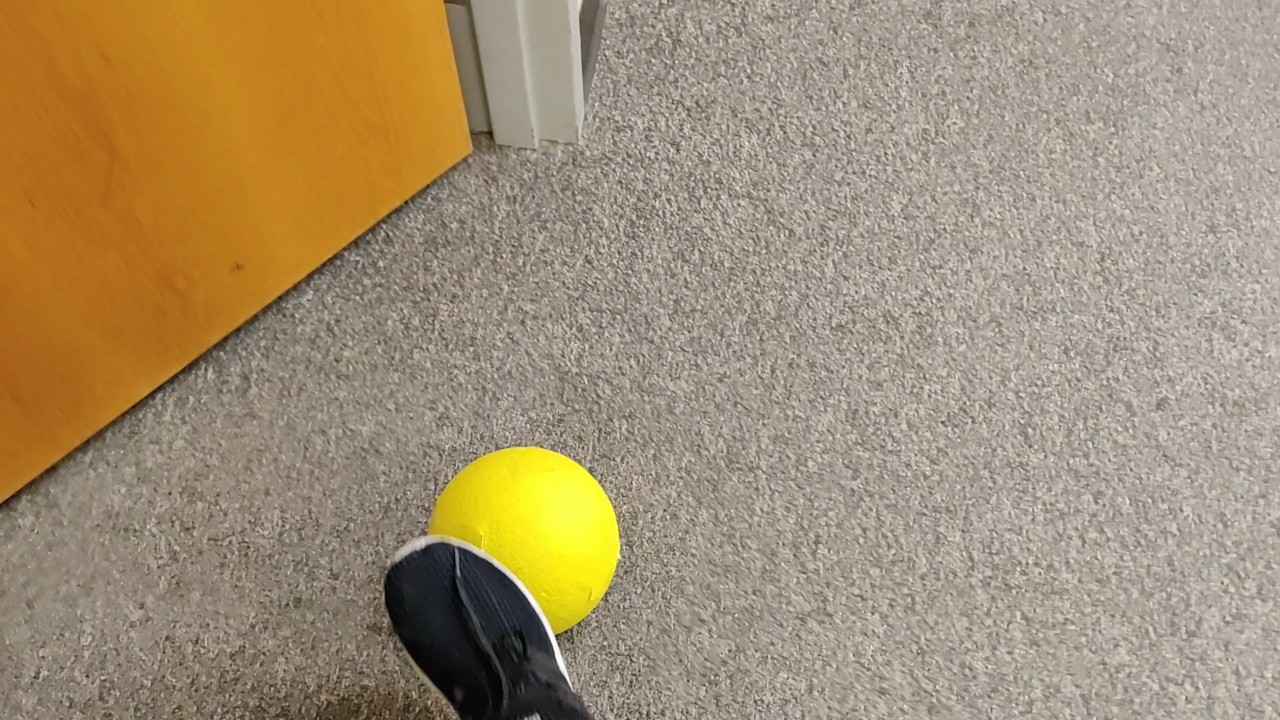Ball: (423, 445, 617, 632)
